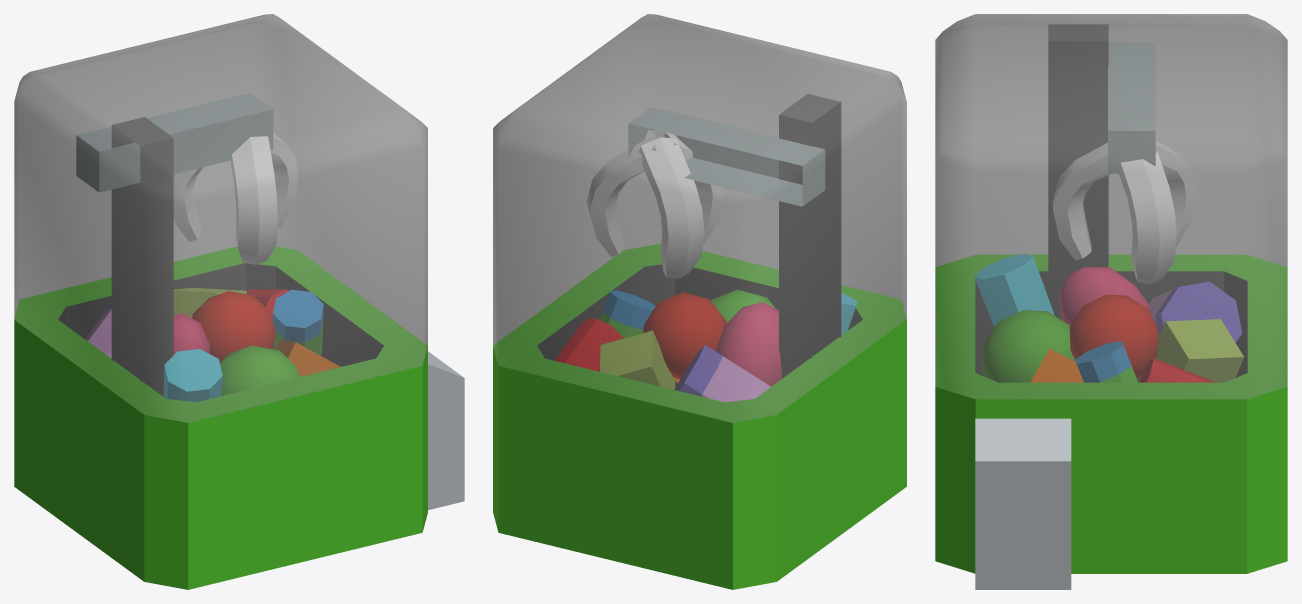
File: slotmachine_s02.FBX
3 views of the same model, side by side, from view 1: azimuth 30°, elevation 25°; view 2: azimuth 150°, elevation 25°; view 3: azimuth 270°, elevation 25° (orthographic). The views are drawn at different scales.
Parts seen in each view (by area): view 1: slotmachine_s02; view 2: slotmachine_s02; view 3: slotmachine_s02.
Boxes of the visible parts, x1,y1,x2,y2 form: slotmachine_s02: [14, 14, 464, 589]; slotmachine_s02: [493, 14, 906, 589]; slotmachine_s02: [935, 14, 1287, 589].
Bounding box in the file's own units: 206 × 188 × 252.
2 materials, 1 textured.
